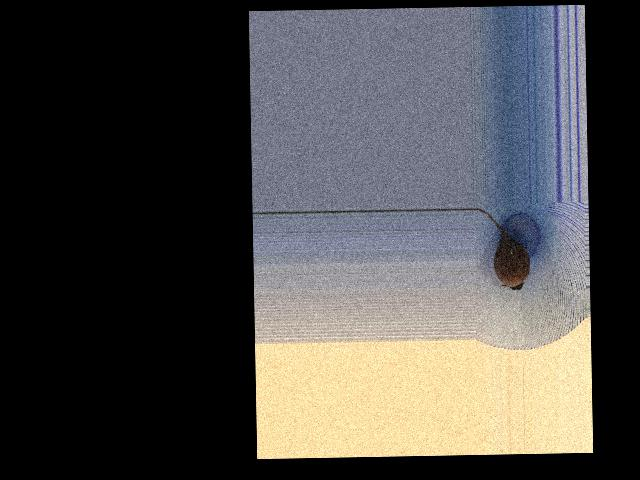beet: (472, 207, 530, 291)
